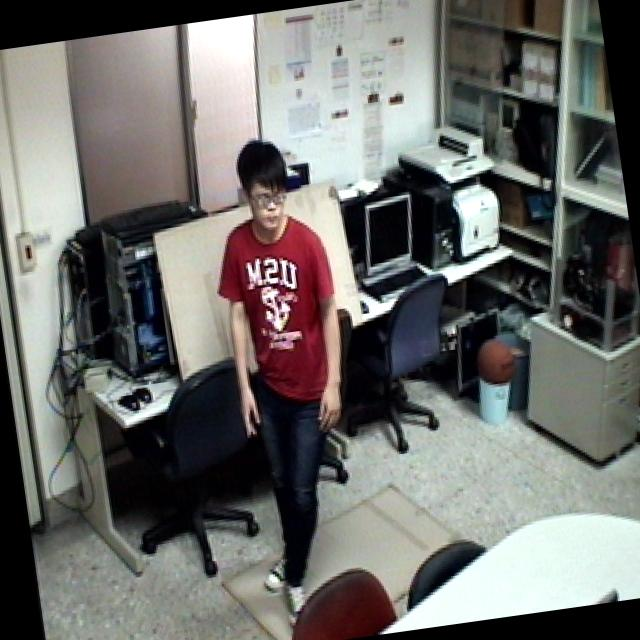stand: (188, 127, 384, 640)
